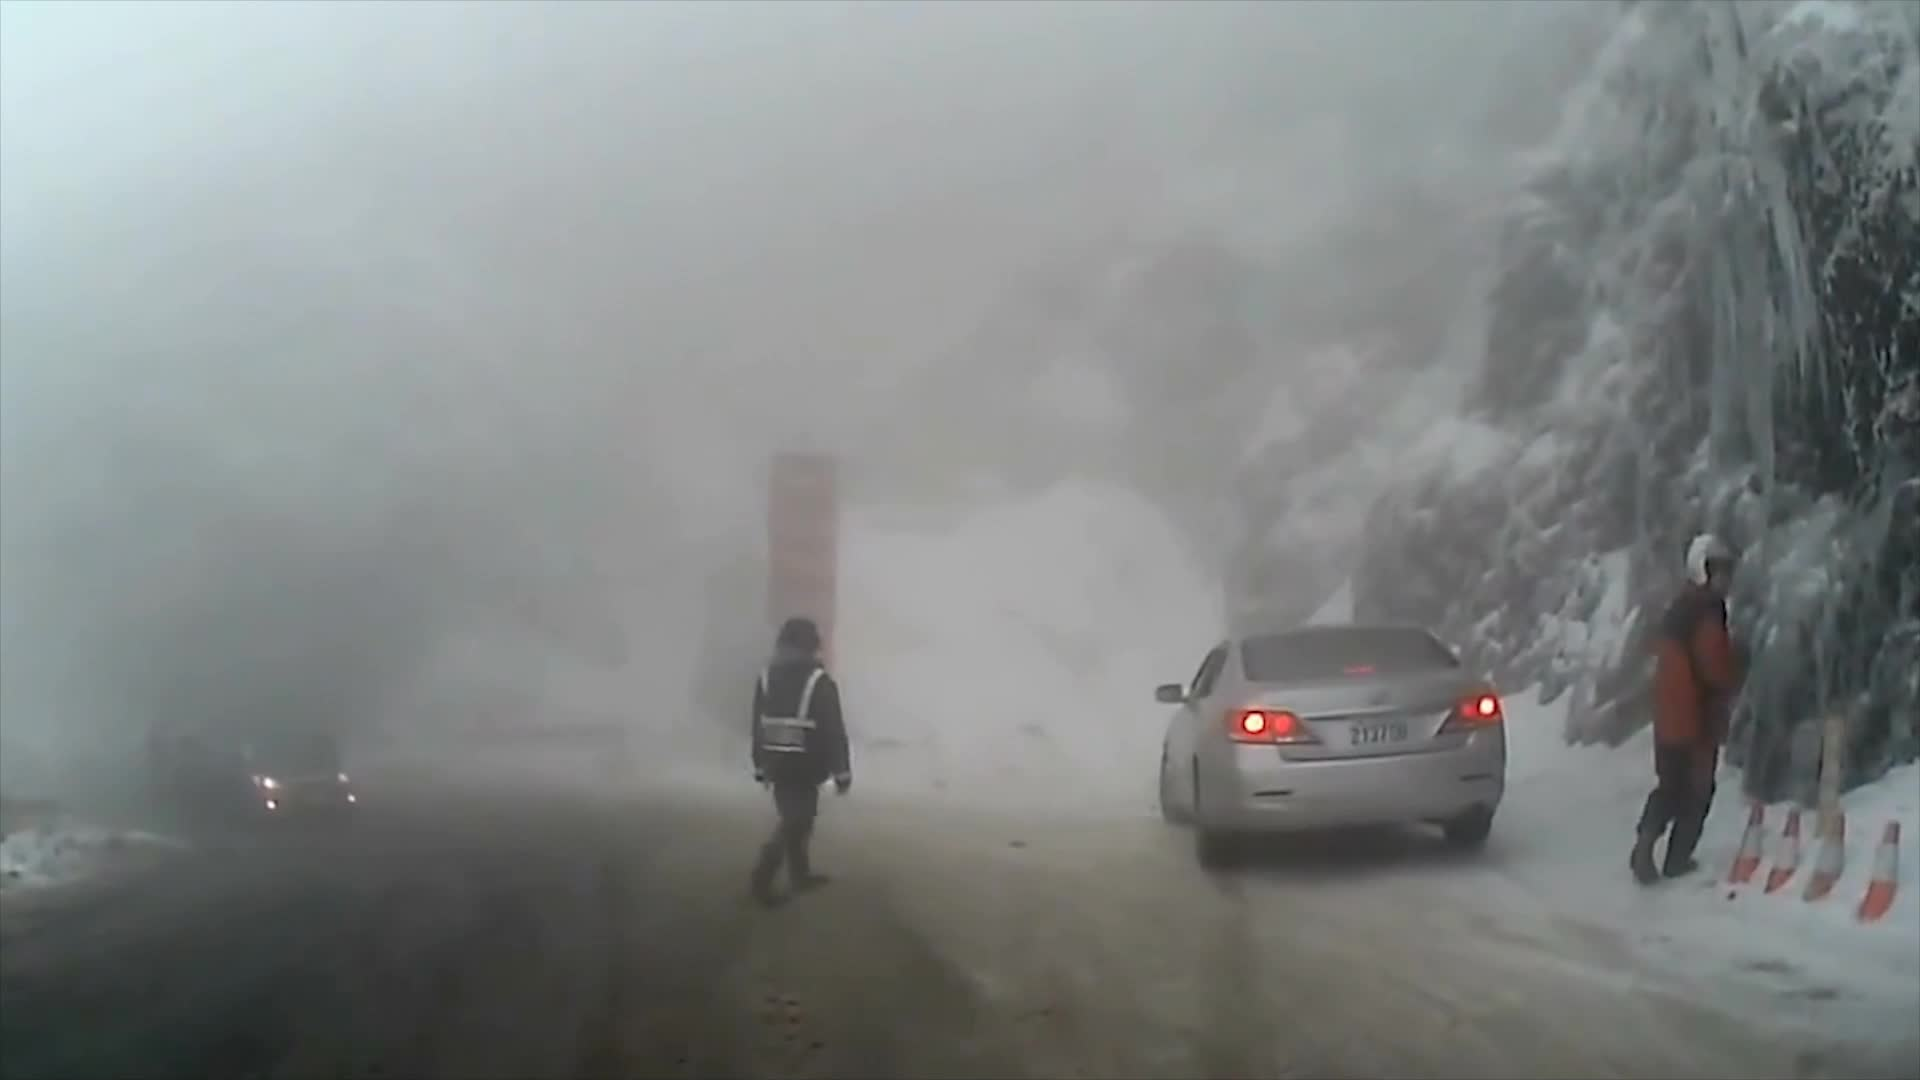pedestrian: (1629, 538, 1761, 886), (749, 623, 860, 908)
vehicle: (1157, 623, 1507, 873)
